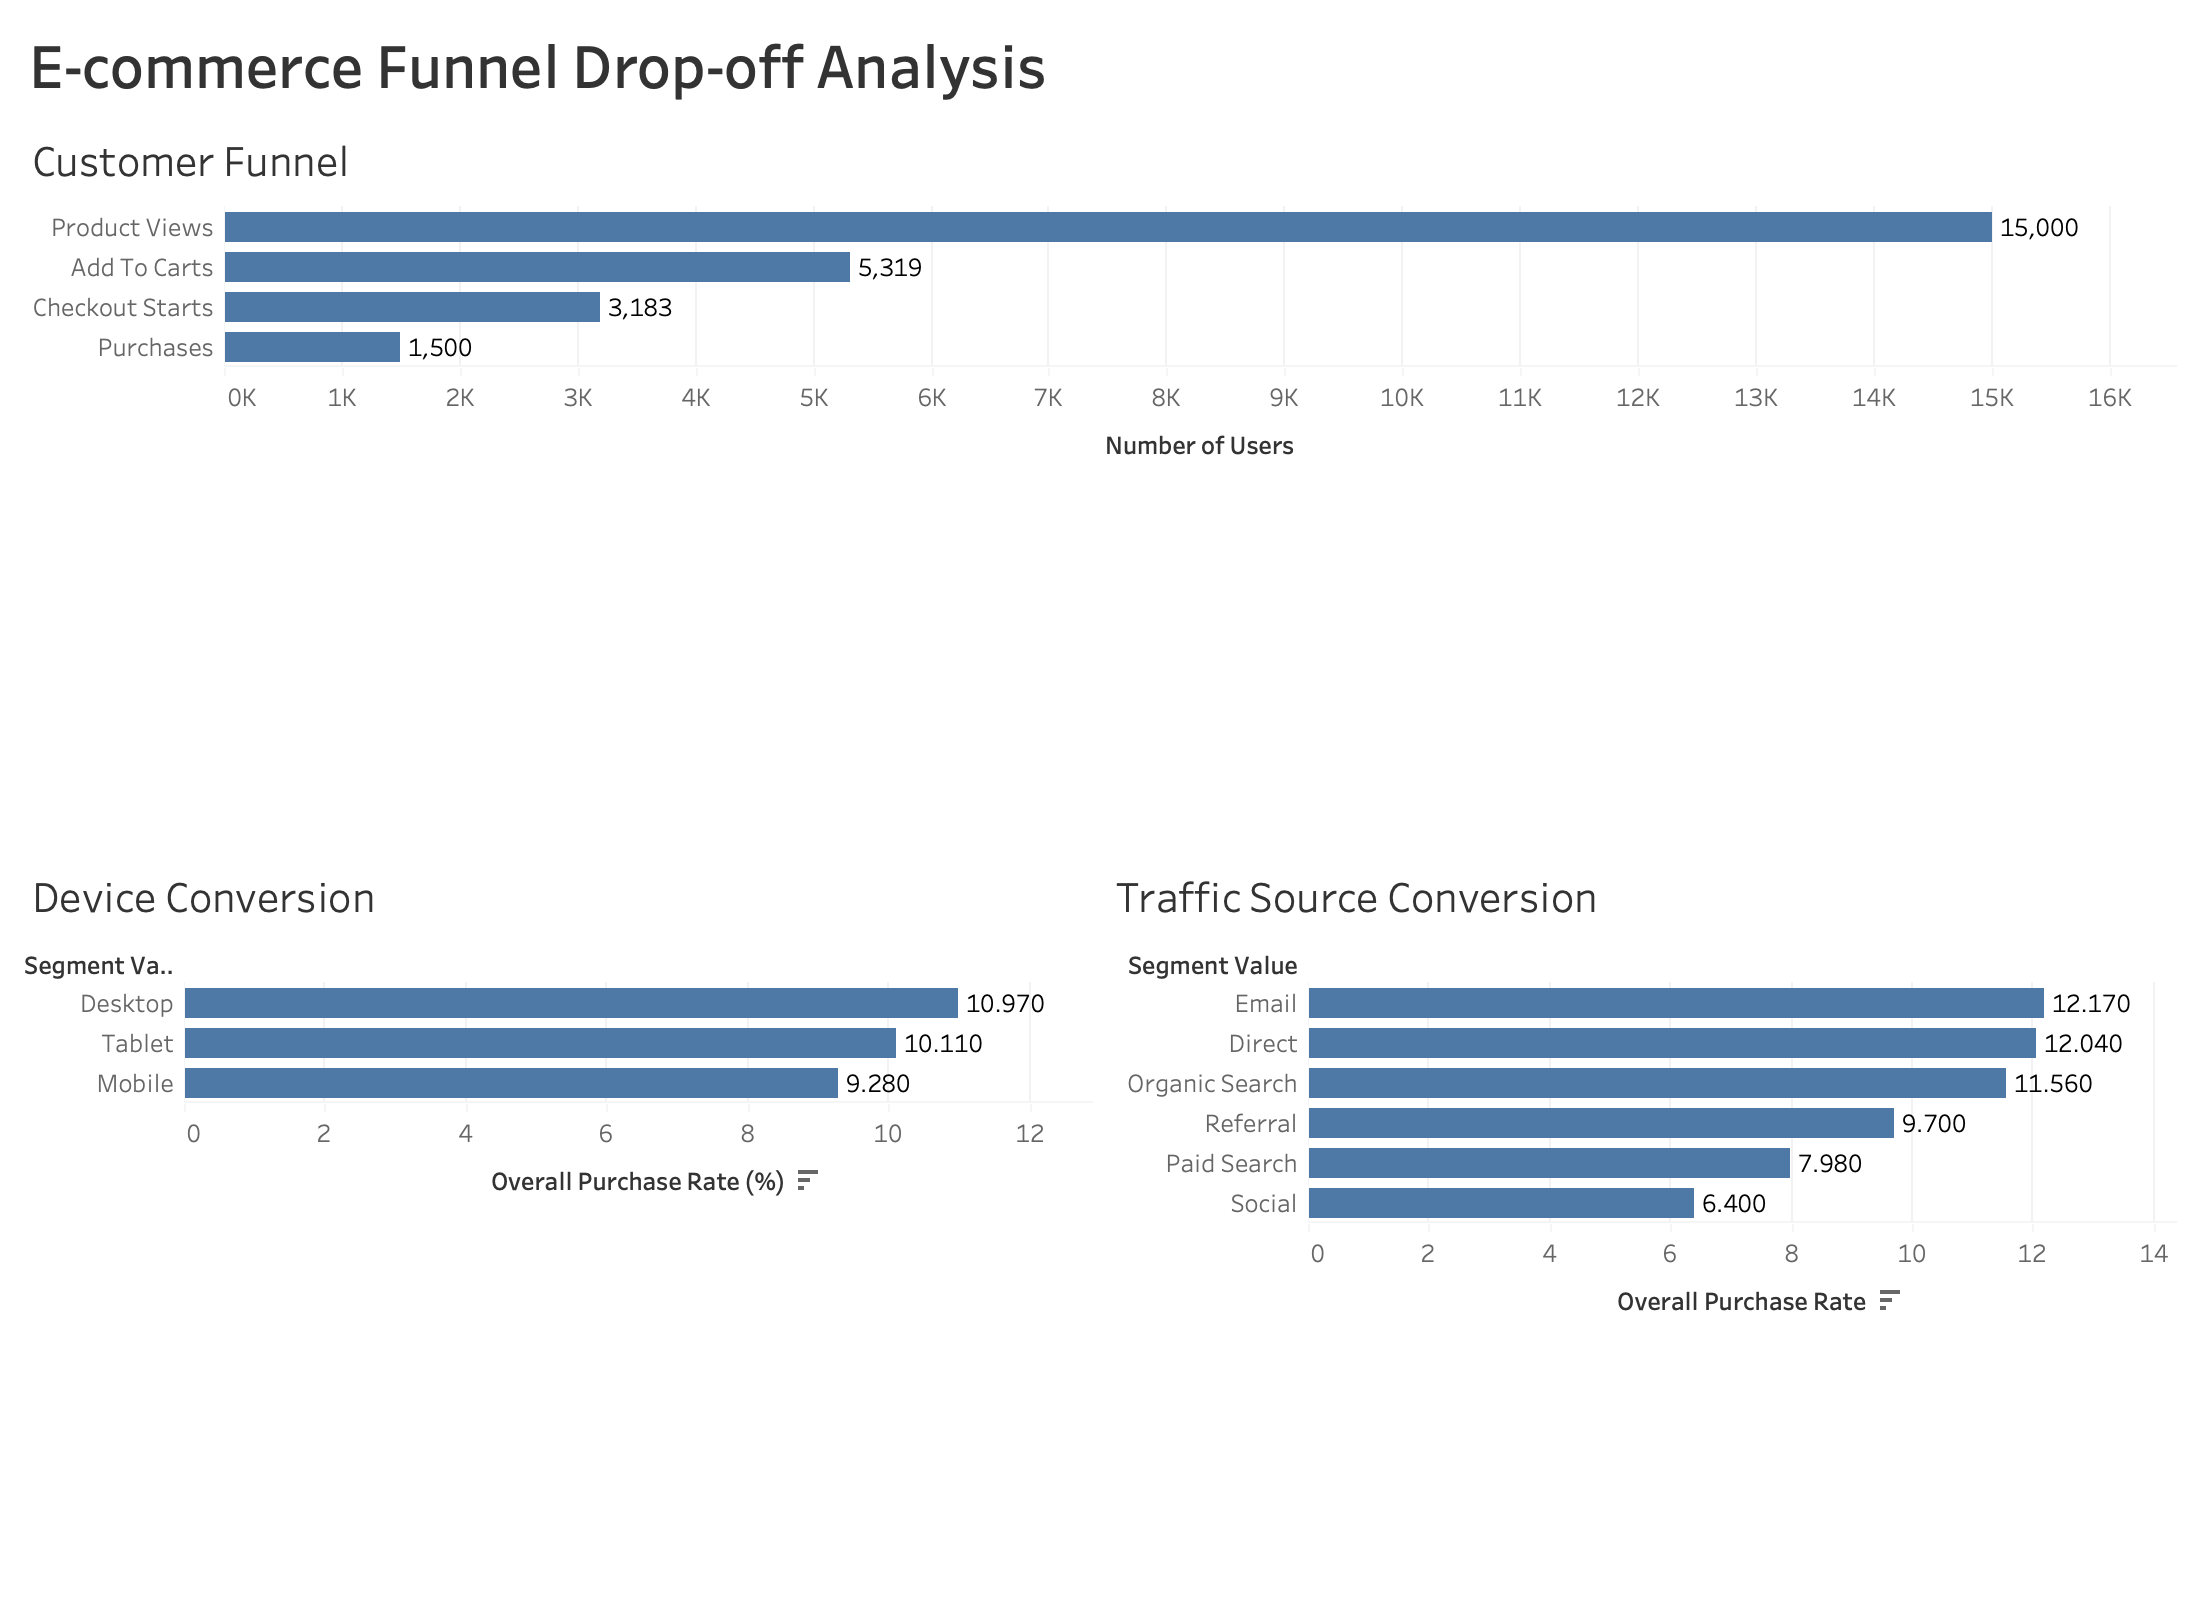

The page's visual inventory and layout, read from the dashboard file:
{"tool":"tableau","page":{"name":"Dashboard 1","canvas":[1100,800],"ordinal":0},"visuals":[{"type":"title","box":[8,8,1084,48]},{"type":"worksheet","title":"Customer Funnel","mark":"Bar","box":[8,56,1084,368]},{"type":"worksheet","title":"Device Conversion","mark":"Automatic","rows":["segment_value"],"cols":["overall_purchase_rate"],"box":[8,424,542,368]},{"type":"worksheet","title":"Traffic Source Conversion","mark":"Bar","rows":["segment_value"],"cols":["overall_purchase_rate"],"box":[550,424,542,368]}]}

Visuals, with their boxes in screenshot pixels (x1, y1, x2, y2), scaled from the page's 1100x800 canvas onto the 2200x1600 screenshot:
title: (16, 16, 2184, 112)
"Customer Funnel" worksheet (Bar marks): (16, 112, 2184, 848)
"Device Conversion" worksheet: (16, 848, 1100, 1584)
"Traffic Source Conversion" worksheet (Bar marks): (1100, 848, 2184, 1584)
